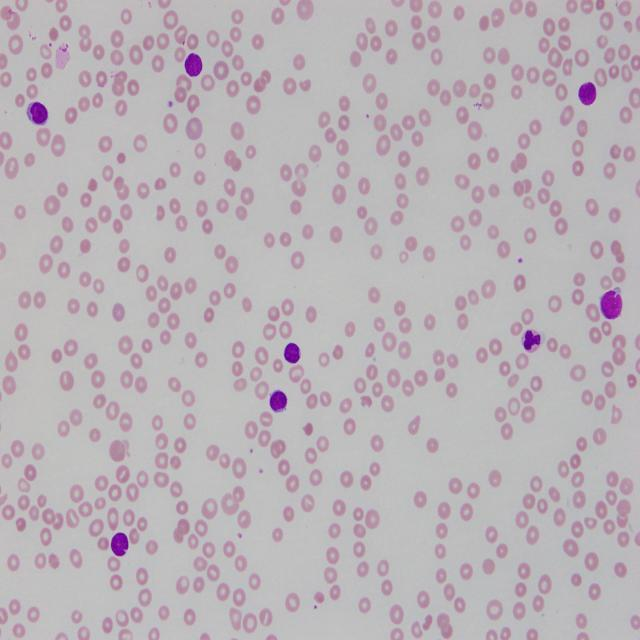cell: (600, 288, 622, 318), (26, 102, 48, 125), (111, 532, 129, 557), (522, 330, 541, 352), (185, 53, 202, 77), (270, 390, 288, 412), (579, 82, 596, 105), (284, 343, 300, 363)
